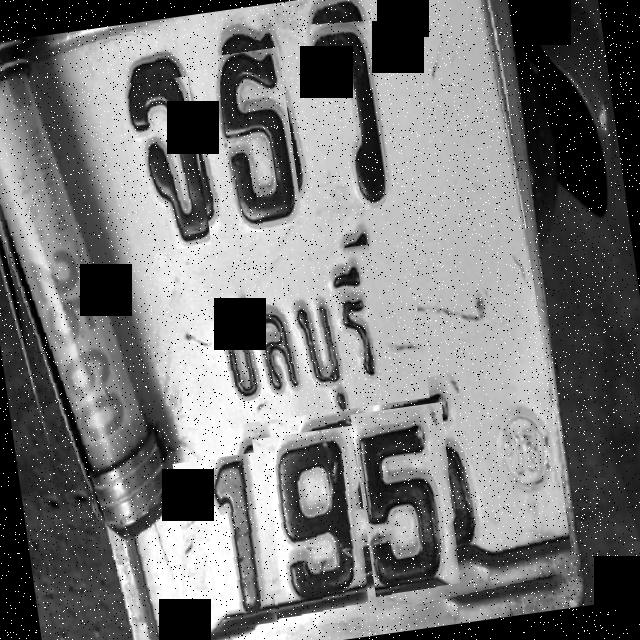letters: (252, 426, 378, 620), (350, 402, 468, 597), (172, 452, 286, 634), (308, 14, 411, 214), (205, 47, 304, 236), (116, 76, 212, 255)
license-plate: (0, 0, 575, 640)
province: (156, 233, 430, 433)
